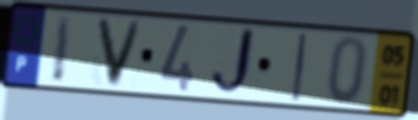0: (322, 34, 373, 109)
4: (158, 21, 196, 96)
I: (49, 13, 76, 85), (290, 31, 310, 104)
J: (207, 25, 259, 100)
V: (94, 15, 146, 91)
